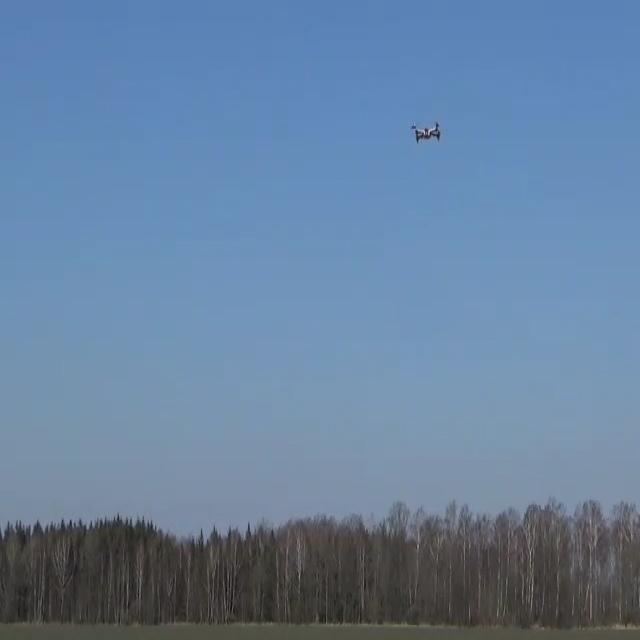drone: (410, 121, 440, 142)
